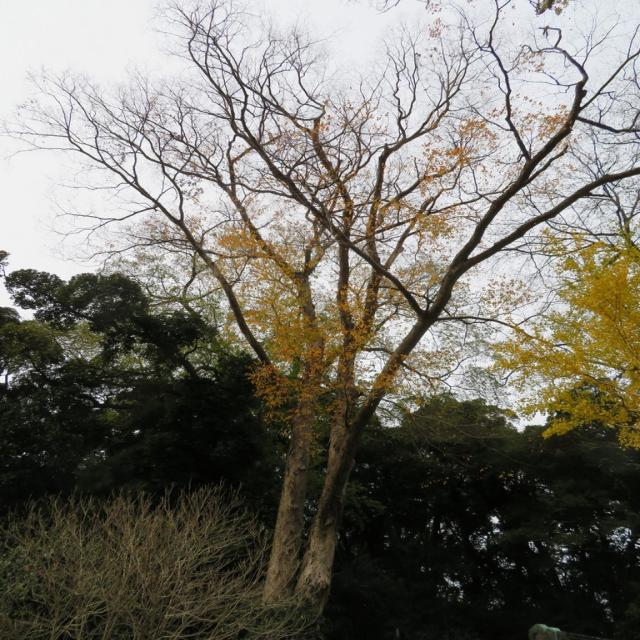zelkova: (2, 0, 640, 605)
